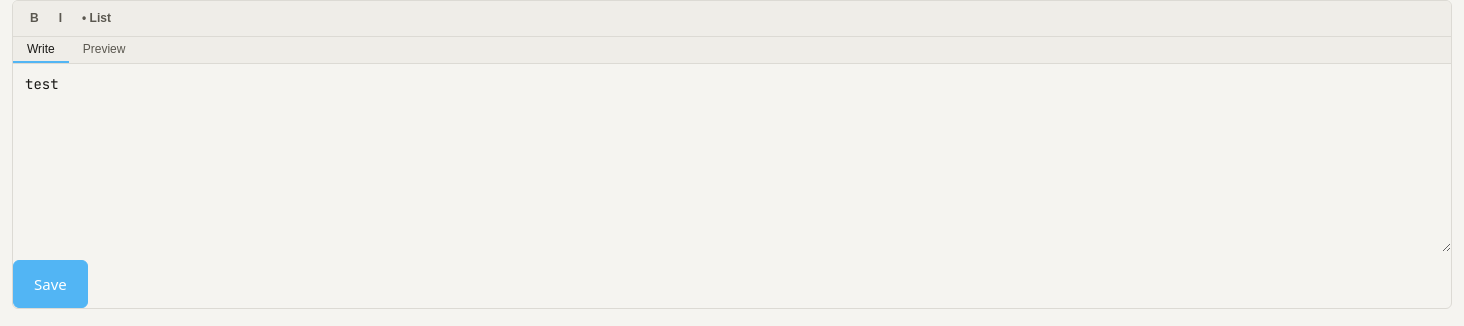
MarkdownEditor › switches to preview mode
The image size is (1464, 326).
Click the button "Preview" at coordinates (104, 50), box [69,37,140,63]
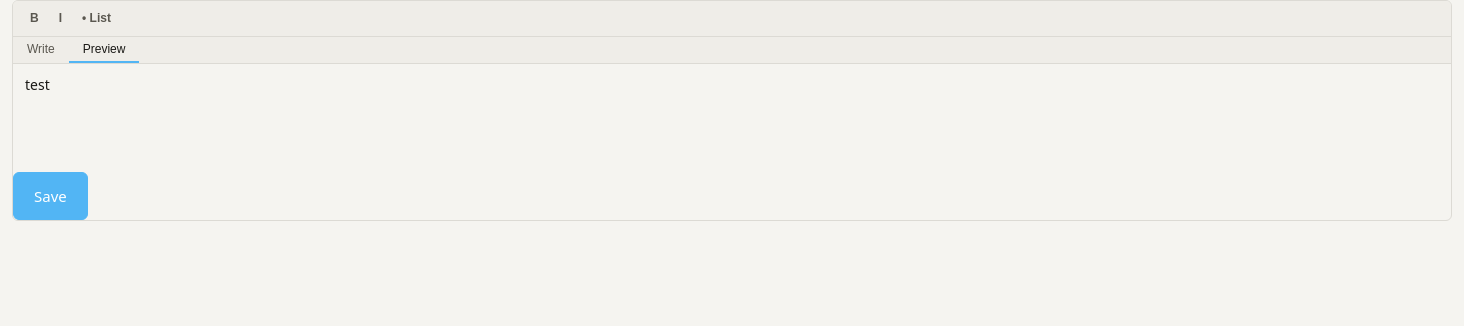
Check: the element with class "md-editor-preview" is shown, box [13,64,1451,164]
